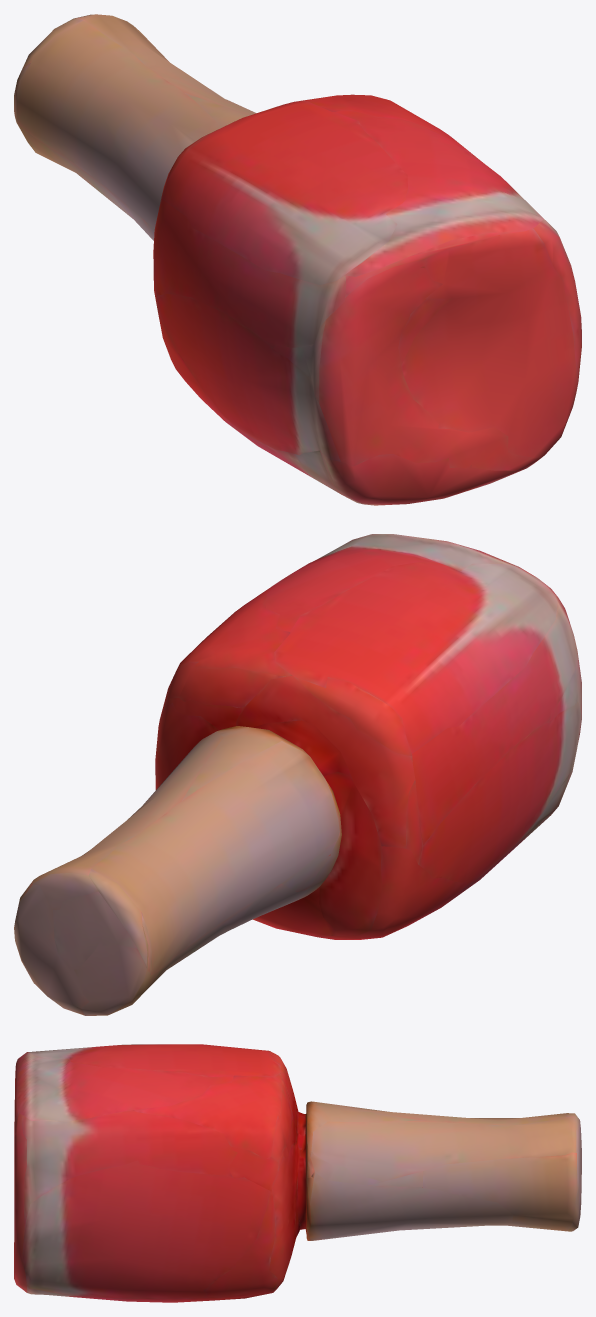
The picture shows the model from 3 angles, top to bottom: view 1: azimuth 30°, elevation 25°; view 2: azimuth 150°, elevation 25°; view 3: azimuth 270°, elevation 25°; orthographic projection. The views are drawn at different scales.
Visible parts, largest first — view 1: material; view 2: material; view 3: material.
Boxes of the visible parts, <box> form: material: <box>14,14,581,505</box>; material: <box>14,534,581,1015</box>; material: <box>14,1044,581,1302</box>.
Size of the model in its own units: 0.4272 by 0.4212 by 1.
Materials: 1 (1 with a texture image).
